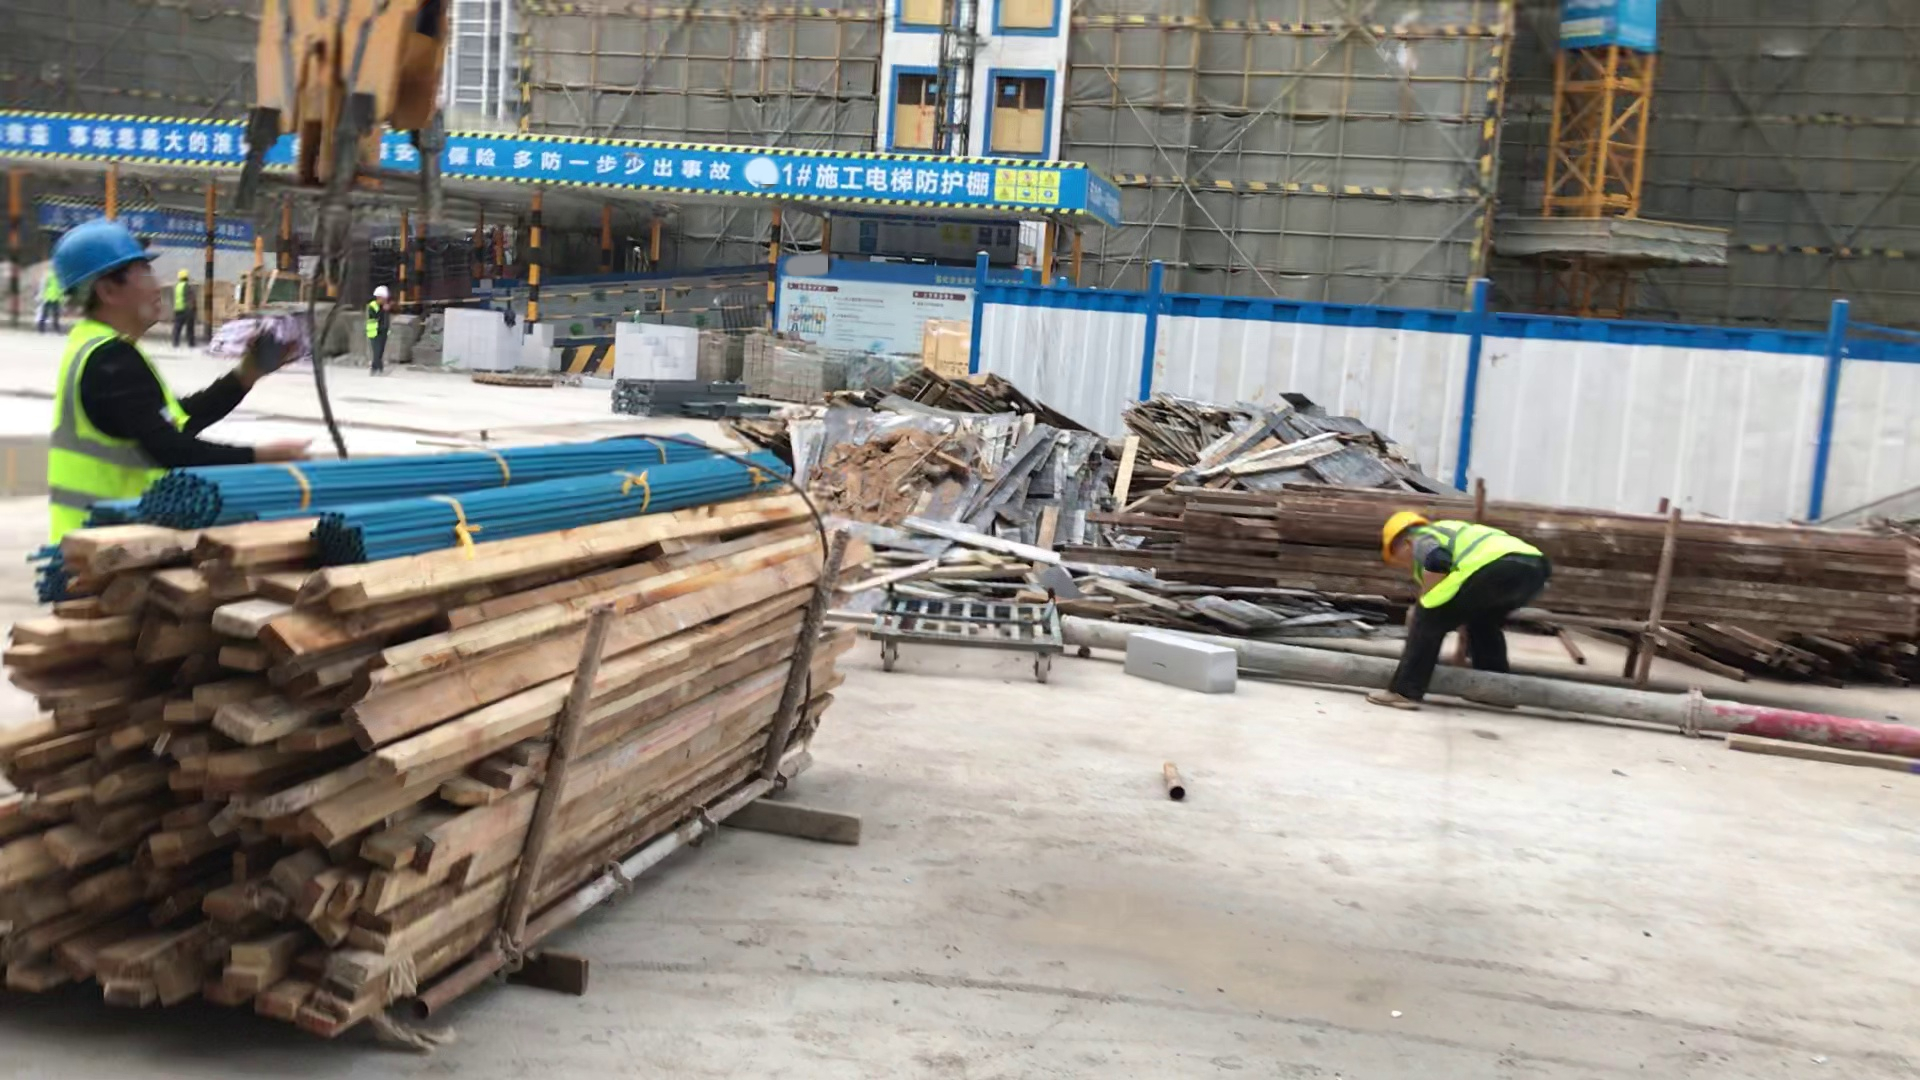board: (803, 388, 1103, 561), (1126, 391, 1473, 505)
brick: (592, 314, 848, 400), (1104, 623, 1245, 707), (435, 295, 569, 372)
fence: (523, 269, 771, 341)
helmet: (47, 216, 166, 293), (1371, 495, 1431, 577), (370, 280, 393, 304), (171, 266, 197, 283)
hook: (221, 4, 490, 300)
person: (35, 210, 332, 535), (1366, 495, 1577, 746), (360, 276, 404, 389), (168, 261, 207, 353), (27, 252, 66, 338)
slogan: (1, 104, 1087, 230), (779, 262, 979, 362), (1536, 1, 1672, 63), (32, 200, 167, 245), (1072, 169, 1138, 243), (163, 206, 257, 252)
vest: (47, 322, 195, 538), (1414, 515, 1553, 623), (365, 298, 393, 341), (172, 284, 193, 315), (42, 273, 60, 305)
wood: (2, 401, 894, 1080)
